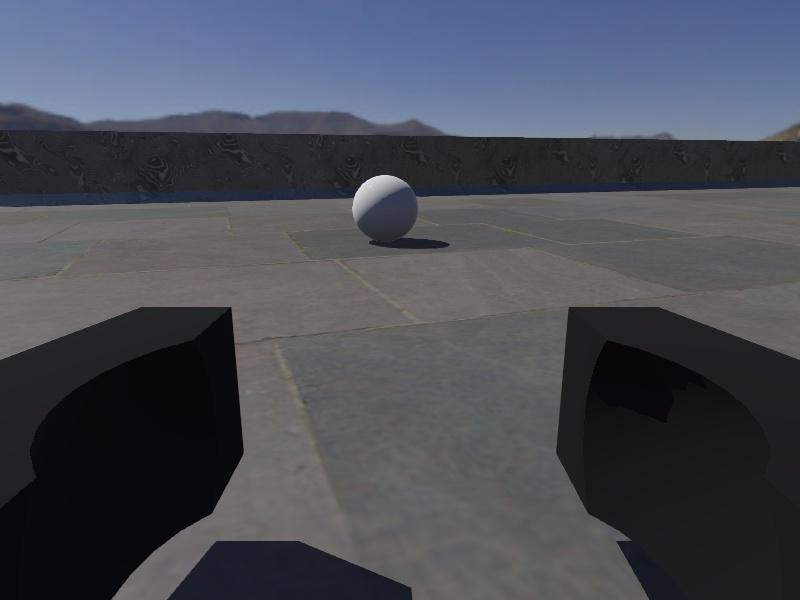white ball: (352, 174, 420, 244)
